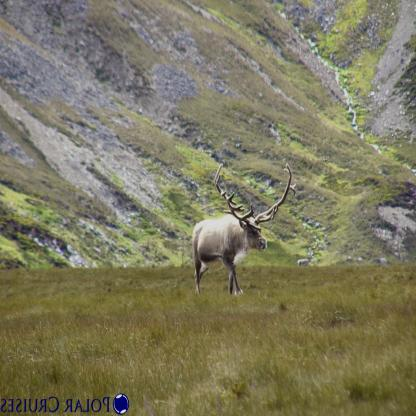Deer: (188, 163, 298, 302)
